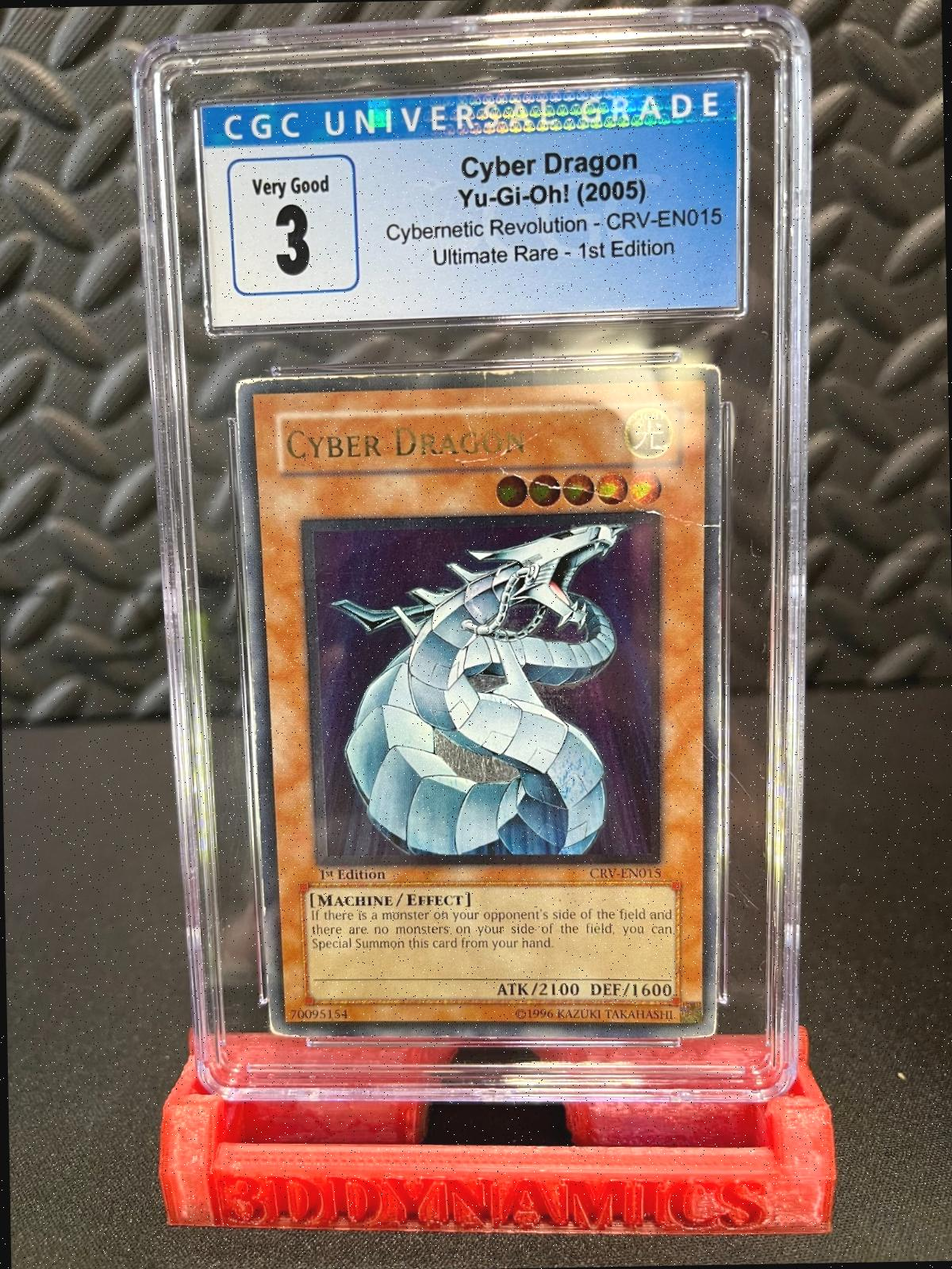card-2UtV: (234, 363, 721, 1037)
